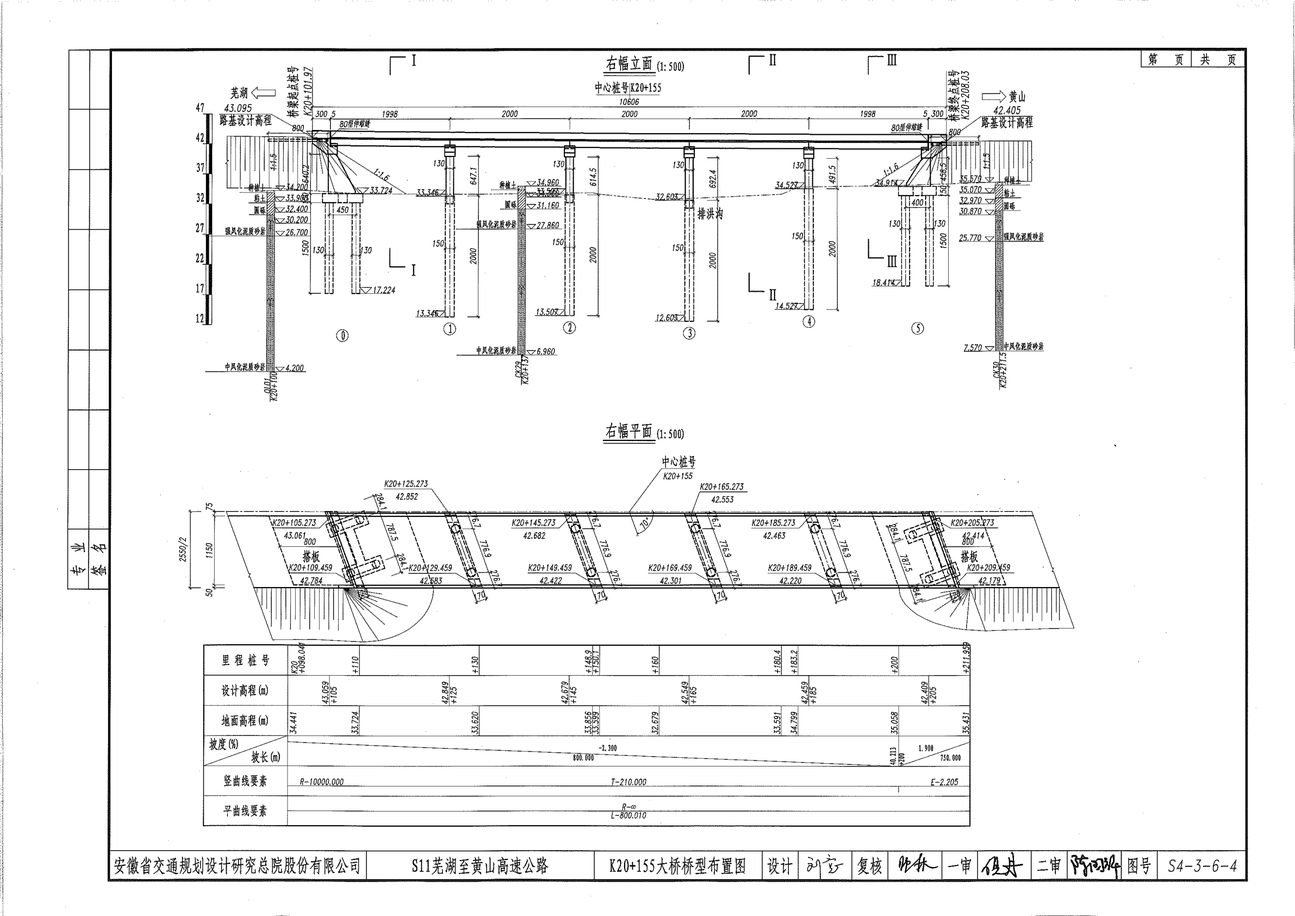A: (179, 53, 1040, 358)
